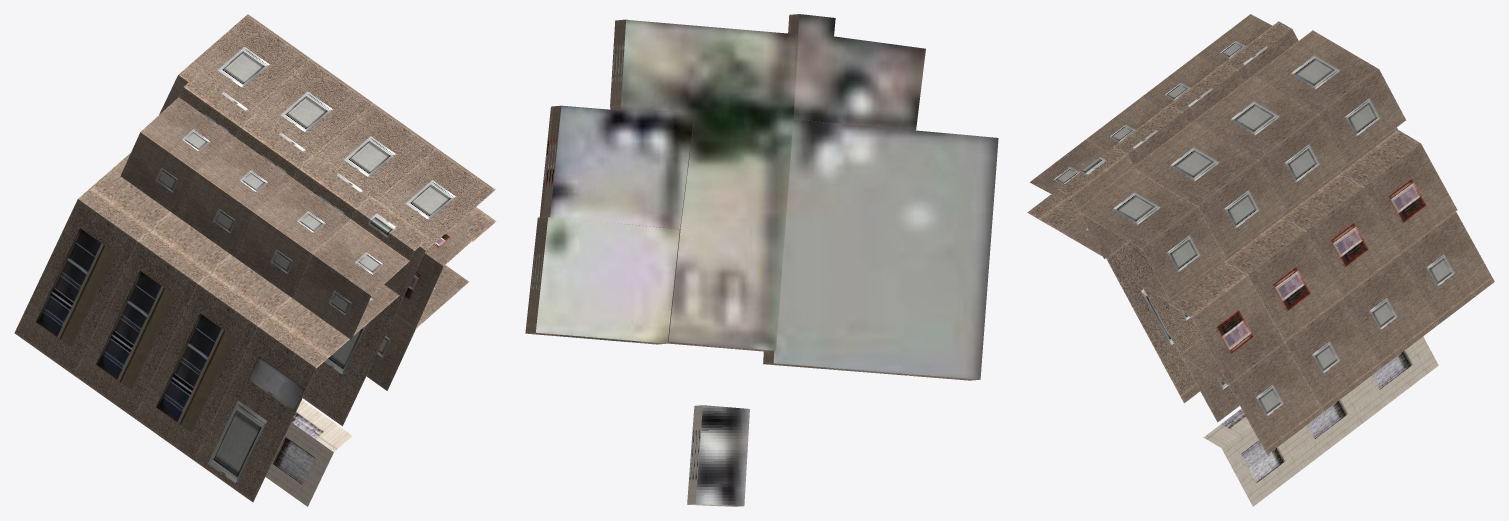
3 views of the same model, side by side, from view 1: azimuth 30°, elevation 25°; view 2: azimuth 150°, elevation 25°; view 3: azimuth 270°, elevation 25° (orthographic). The views are drawn at different scales.
Bounding box in the file's own units: 21.34 × 21.63 × 21.22.
20 materials, 20 textured.
